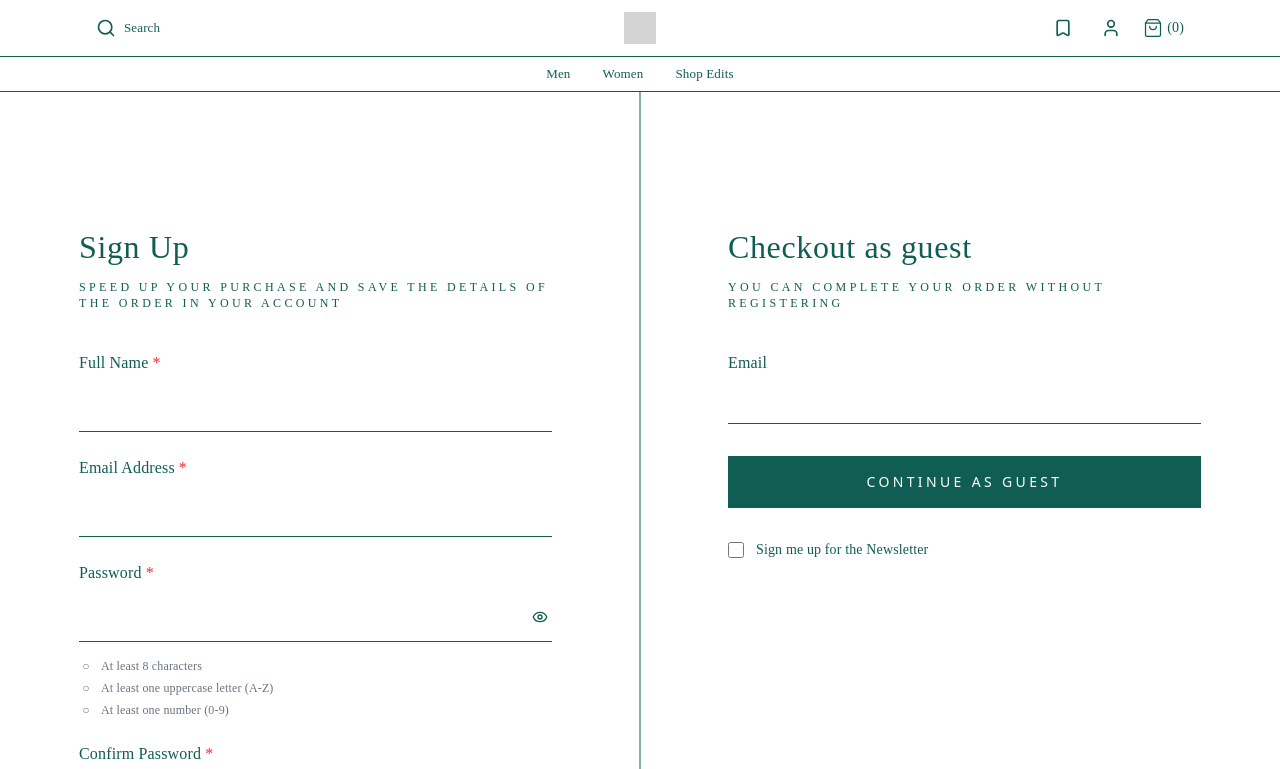
Scenario: Registration Validation › validates full name minimum length
The image size is (1280, 769).
Type "A" into the field labelled "Full Name*" at (316, 407), box [79, 383, 552, 432]
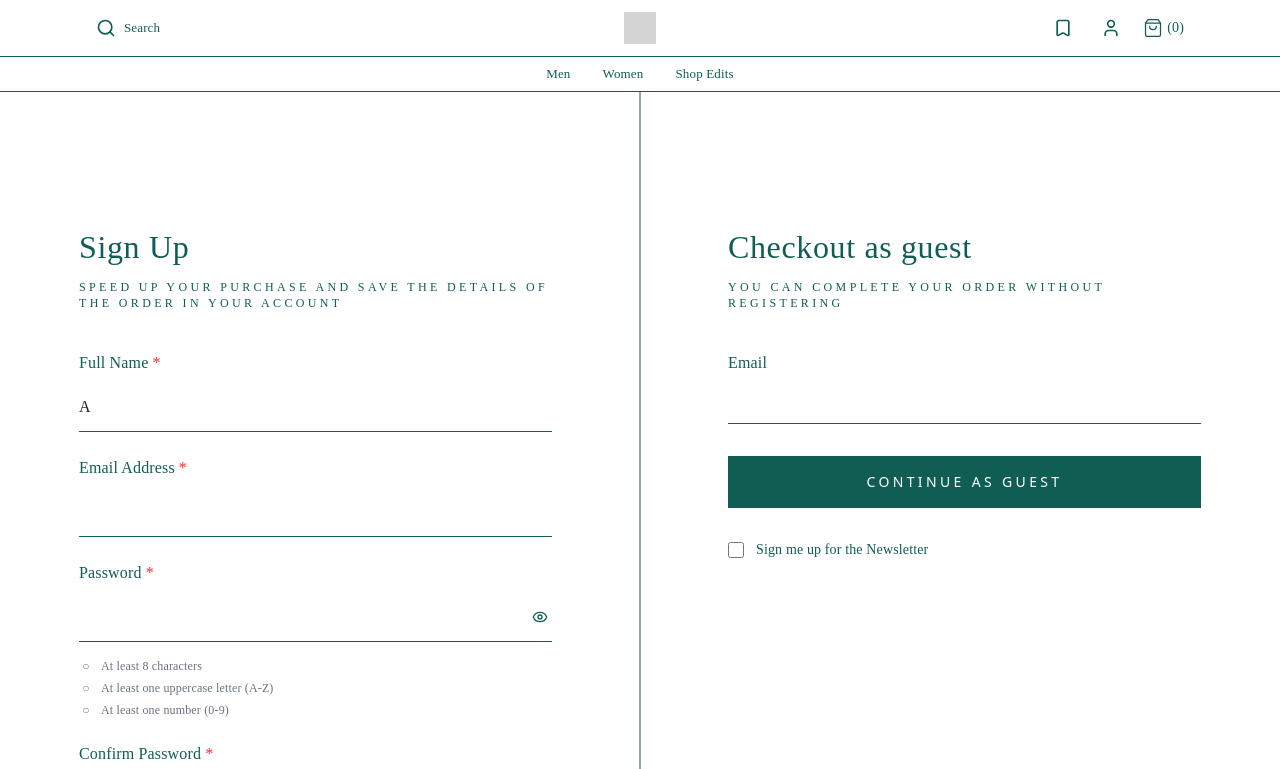
Leave the field labelled "Full Name*", box [79, 383, 552, 432]
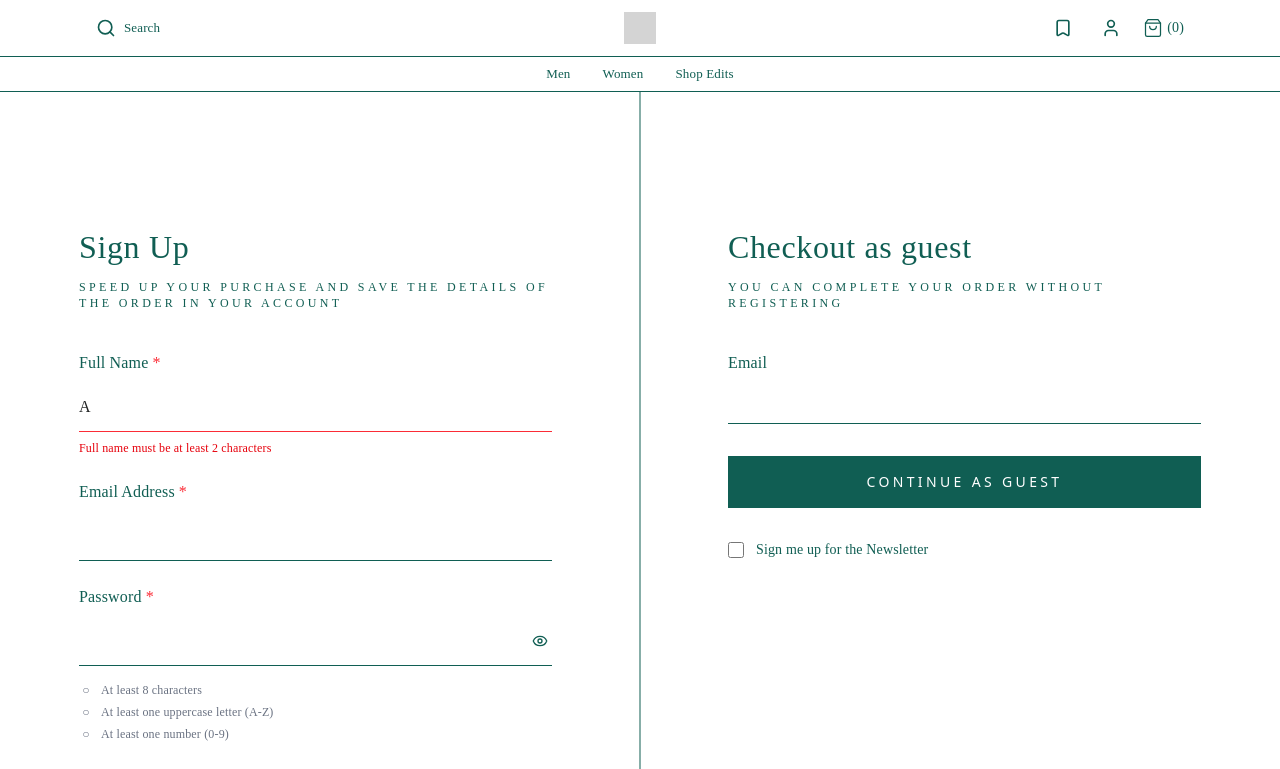
Expected: the text "Full name must be at least 2 characters" is shown, [79, 441, 272, 455]
